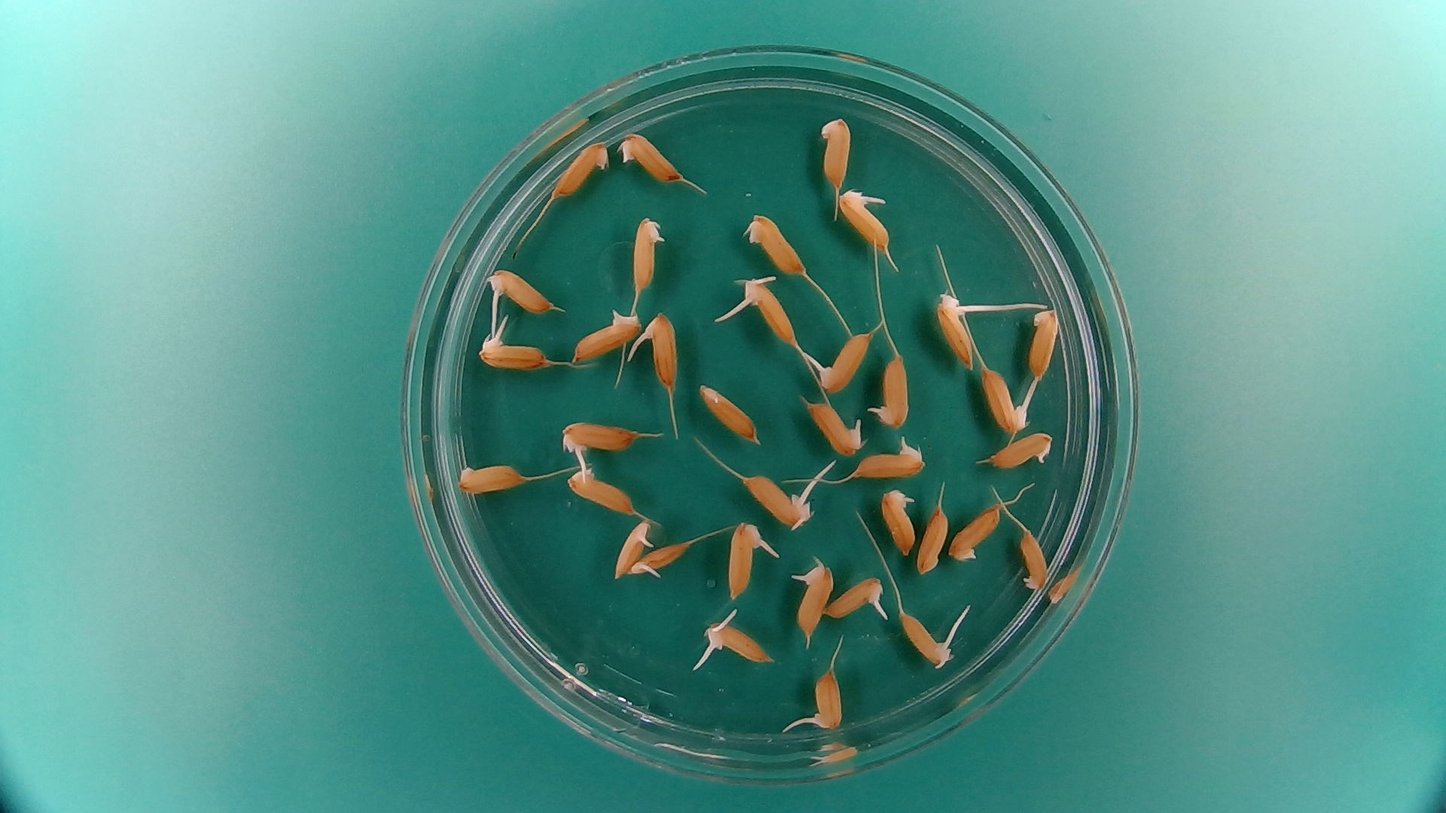no: (741, 209, 807, 276), (564, 461, 639, 516), (697, 382, 761, 443), (550, 138, 612, 199), (948, 498, 1007, 562), (617, 129, 682, 186), (818, 114, 853, 192), (1026, 306, 1060, 384), (916, 503, 951, 577), (455, 460, 526, 496), (1017, 523, 1050, 592)
yes: (569, 303, 644, 363), (835, 184, 893, 256), (743, 473, 816, 528), (933, 289, 982, 370), (811, 329, 873, 393), (557, 416, 642, 461), (725, 519, 772, 599), (701, 615, 775, 665), (981, 364, 1033, 435), (482, 266, 556, 315), (744, 278, 795, 349), (899, 608, 959, 668), (804, 399, 865, 457), (868, 351, 912, 430), (792, 557, 832, 643), (642, 309, 682, 389), (630, 212, 668, 295), (853, 439, 926, 478), (823, 577, 888, 620), (878, 486, 917, 556), (612, 515, 654, 579), (988, 431, 1056, 470), (631, 540, 691, 577), (813, 663, 844, 729), (481, 341, 548, 368)
